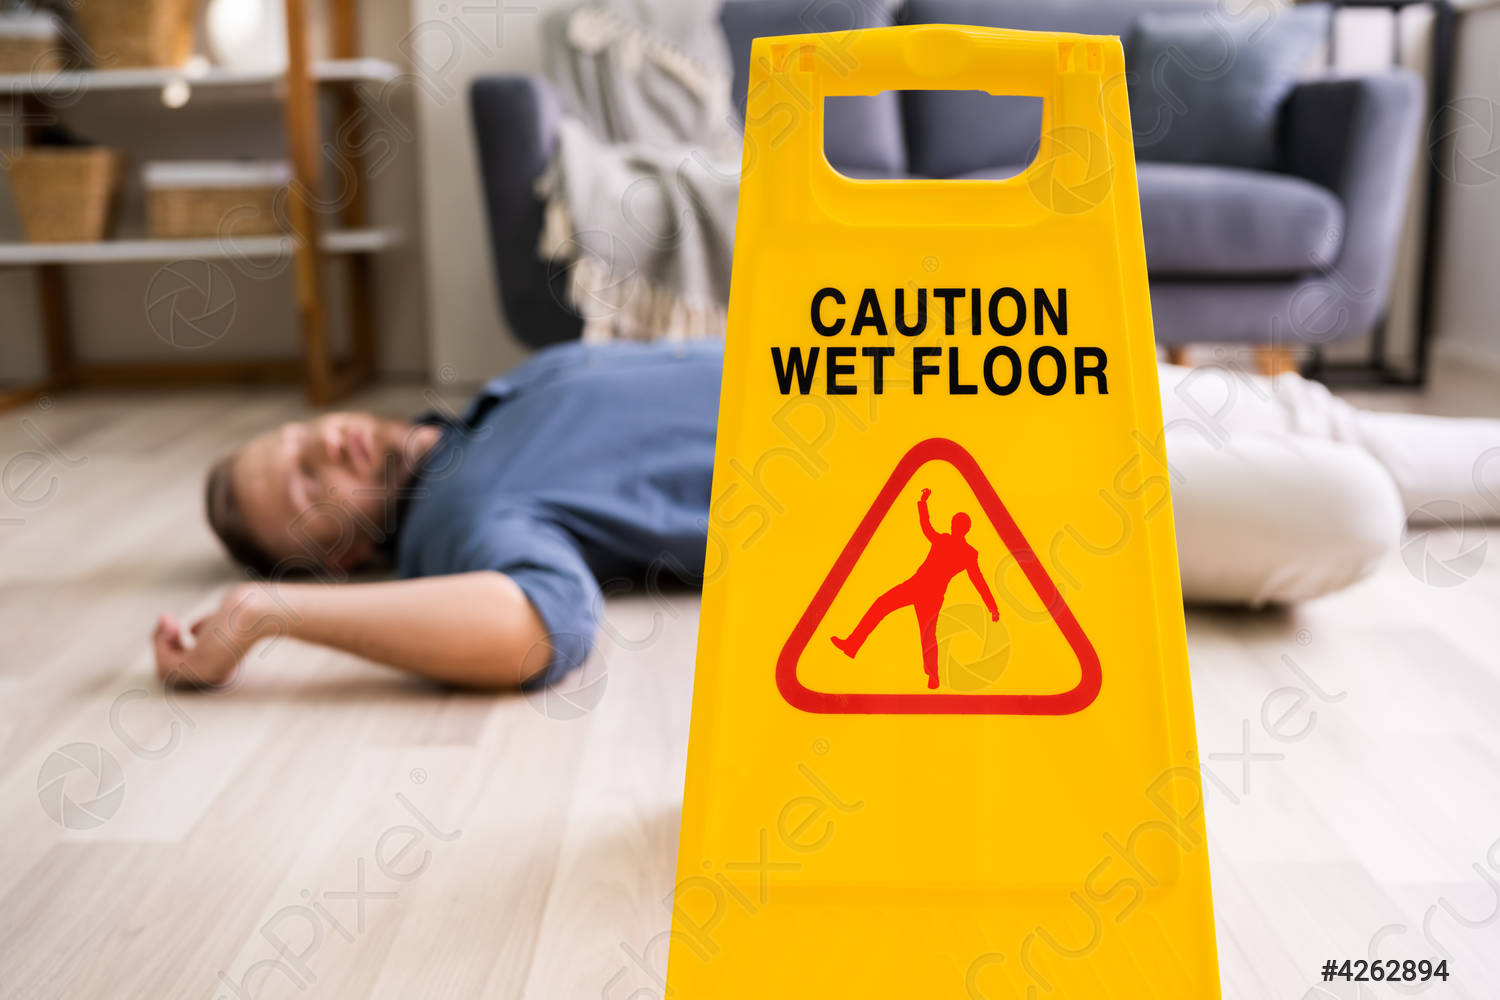wet caution sign: (664, 16, 1254, 1000)
